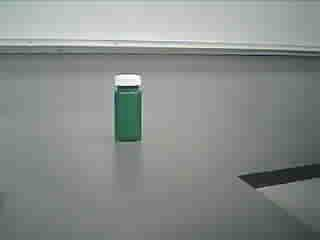Bottle C: (103, 69, 154, 156)
